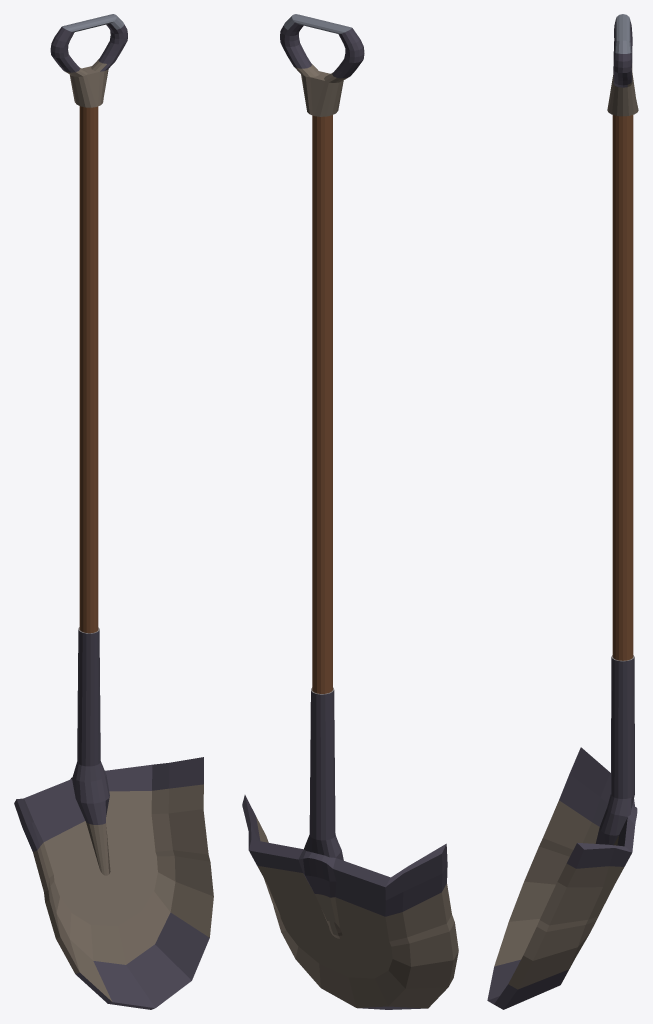
The model's file is metal_shovel.glb.
The picture shows the model from 3 angles, left to right: view 1: azimuth 30°, elevation 25°; view 2: azimuth 150°, elevation 25°; view 3: azimuth 270°, elevation 25°; orthographic projection. The views are drawn at different scales.
Visible parts, largest first — view 1: MetalParts; view 2: MetalParts; view 3: MetalParts.
Boxes of the visible parts, x1,y1,x2,y2 form: MetalParts: (14, 14, 213, 1009); MetalParts: (242, 14, 458, 1009); MetalParts: (487, 14, 638, 1009).
Size of the model in its own units: 0.1645 by 0.8 by 0.1121.
